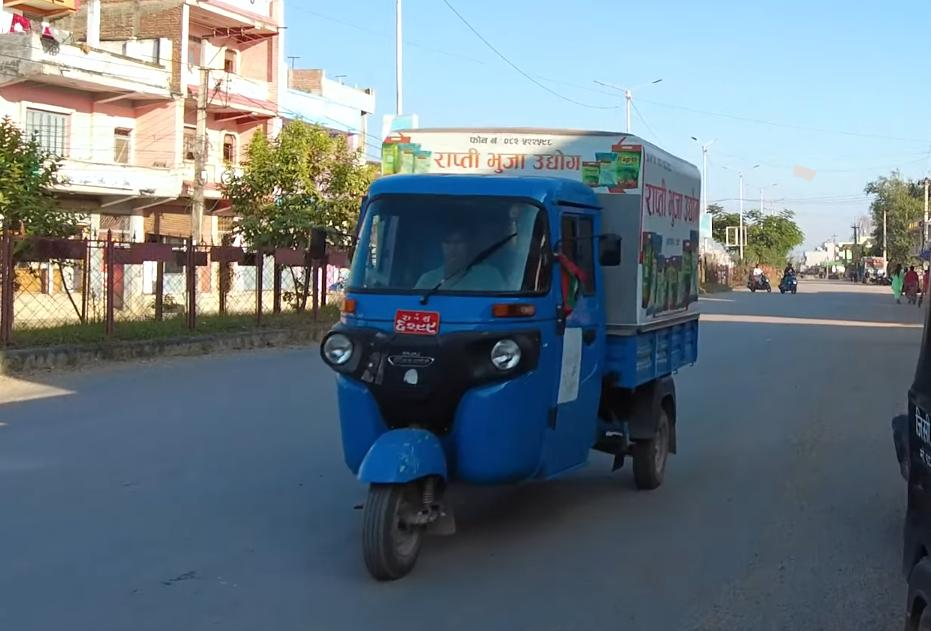auto_rickshaw: (309, 123, 718, 584)
scooter: (743, 271, 773, 295), (775, 269, 799, 295)
